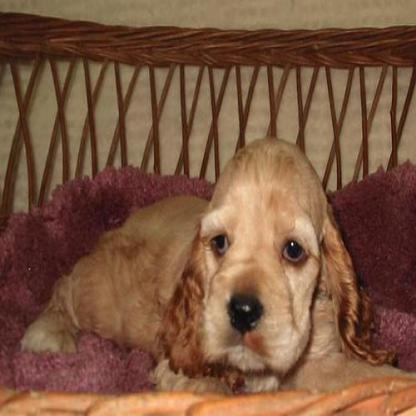cocker_spaniel: (18, 131, 414, 394)
